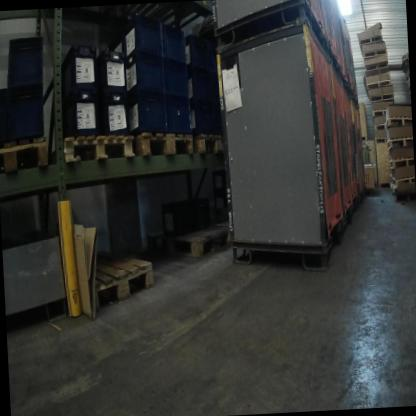pallet: (82, 229, 162, 314), (90, 1, 211, 39), (154, 217, 231, 265), (45, 127, 136, 163), (0, 136, 56, 185), (136, 128, 193, 157), (196, 123, 228, 158), (208, 217, 235, 245), (382, 113, 410, 132), (365, 77, 392, 96), (363, 60, 396, 73), (356, 32, 381, 49), (384, 137, 412, 152), (358, 46, 386, 61), (368, 92, 393, 108), (387, 156, 413, 170), (392, 189, 415, 204), (390, 175, 414, 188), (373, 121, 389, 135), (369, 107, 387, 117), (374, 134, 389, 145), (401, 69, 409, 88), (402, 51, 409, 62)
small_load_carrier: (44, 36, 97, 92), (7, 88, 53, 147), (8, 28, 47, 96), (120, 86, 164, 141), (115, 14, 163, 62), (93, 42, 130, 102), (60, 87, 101, 135), (121, 52, 162, 99), (161, 60, 193, 102), (162, 88, 191, 132), (161, 21, 190, 64), (0, 85, 20, 142), (99, 92, 126, 131), (175, 28, 204, 59), (185, 97, 208, 130), (187, 61, 205, 103)
